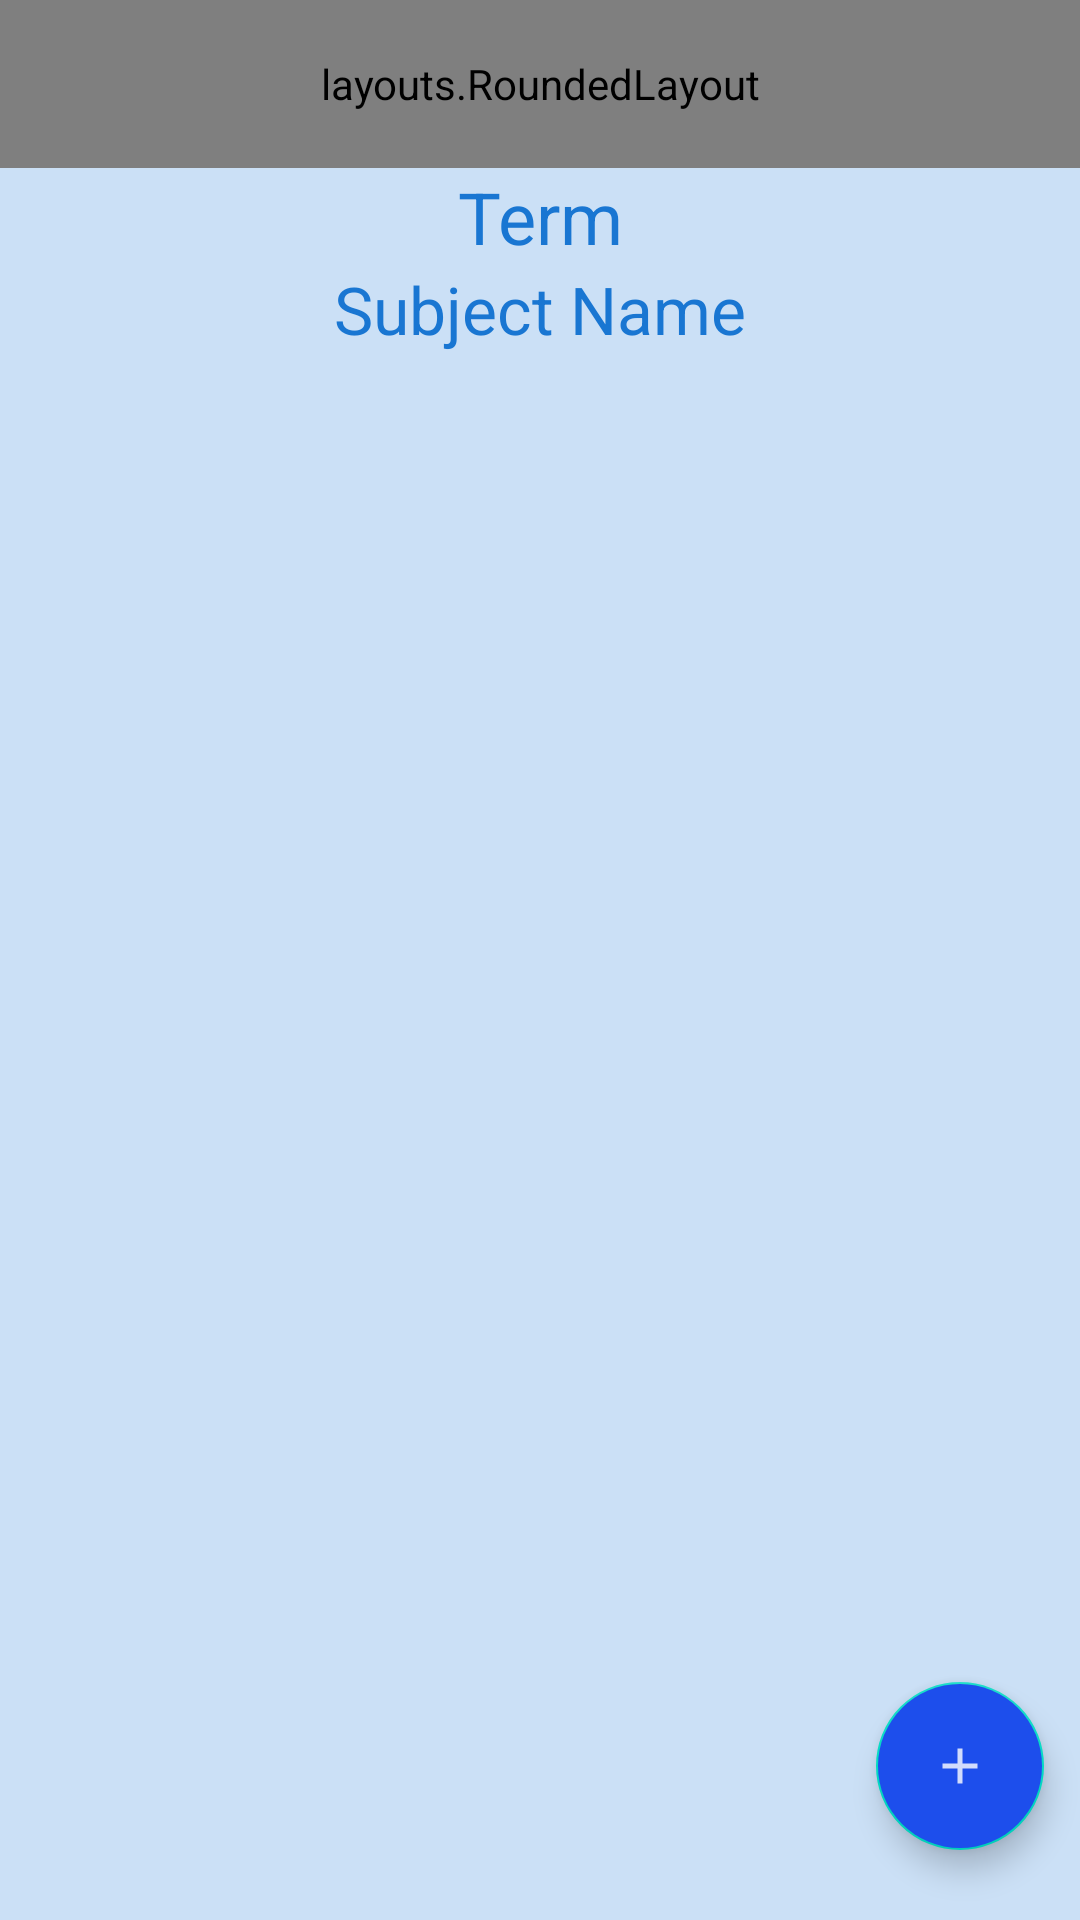

Screen size 1080w x 1920h. Icon name, then its box in pixels as box(x1, y1, x2, y2):
add: box(876, 1682, 1044, 1850)
